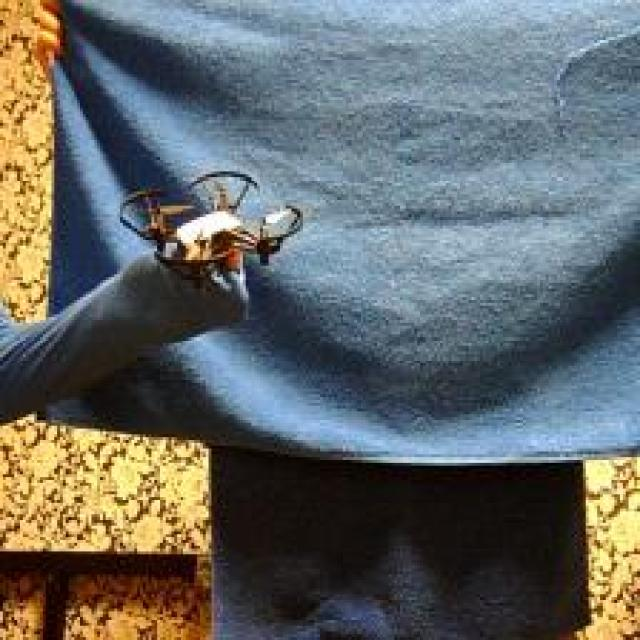drone: (119, 171, 307, 286)
